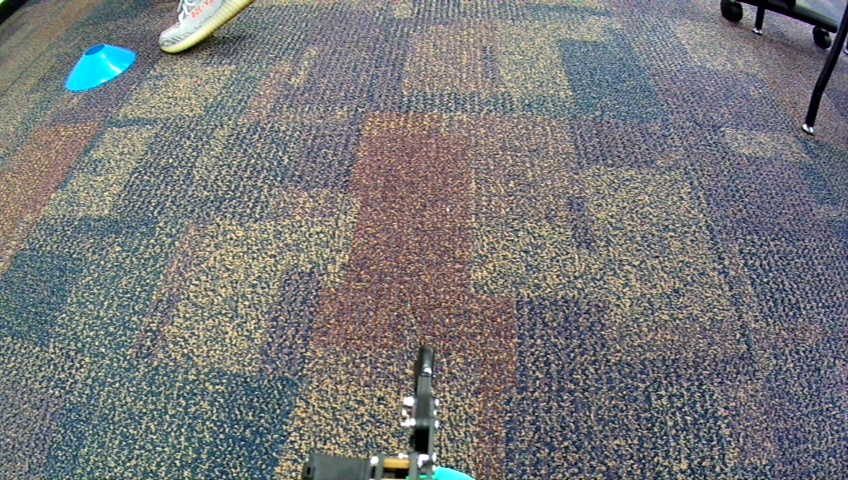cone: (64, 45, 137, 92)
